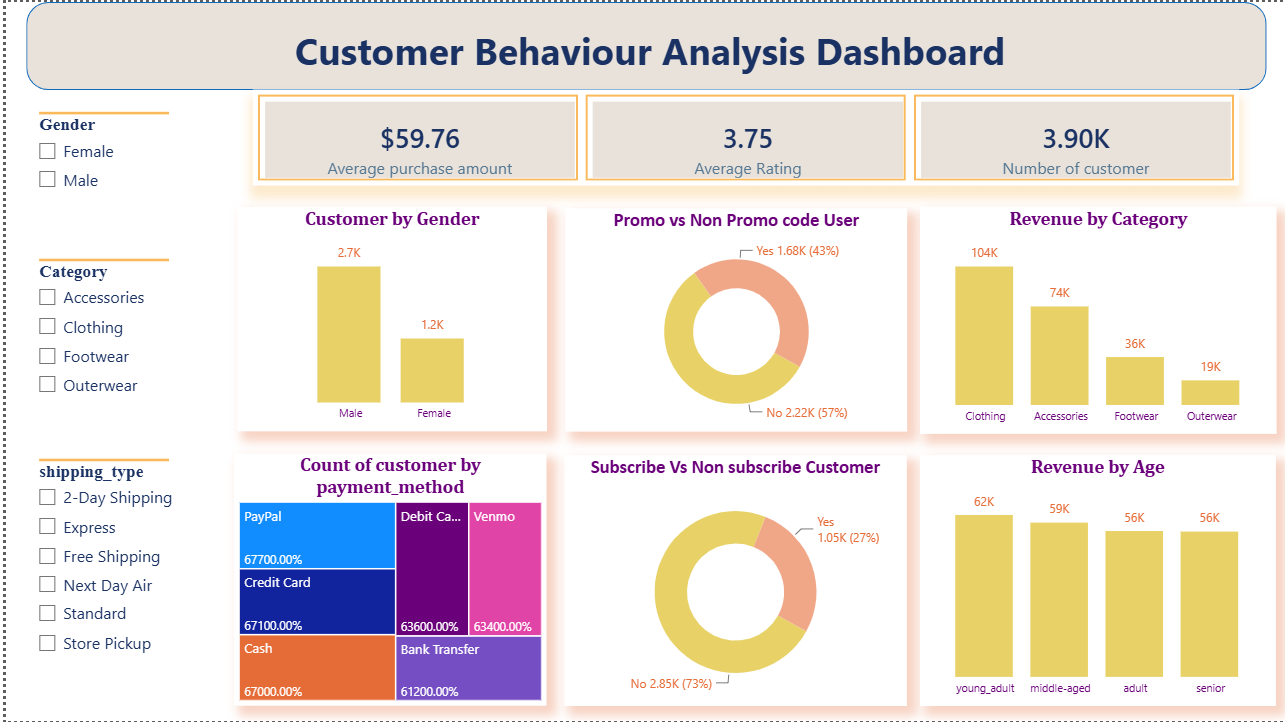

The page's visual inventory and layout, read from the dashboard file:
{"tool":"powerbi","page":{"name":"Page 1","canvas":[1280,720],"ordinal":0},"visuals":[{"type":"shape","box":[20.9,0,1240.3,88.1],"z":0},{"type":"cardVisual","fields":{"Data":["Customer_behavior.Average purchase amount","Customer_behavior.Average Rating","Customer_behavior.Number of customer"]},"box":[246.9,87.7,986.4,96.3],"z":1000},{"type":"textbox","box":[37.3,16.4,1213.4,61.2],"z":2000},{"type":"donutChart","title":"Subscribe Vs Non subscribe Customer","fields":{"Category":["Customer_behavior.subscription_status"],"Y":["Count(Customer_behavior.customer_id)"]},"box":[558,453.1,343.2,250.6],"z":3000},{"type":"clusteredColumnChart","title":"Revenue by Age ","fields":{"Category":["Customer_behavior.age_group"],"Y":["Sum(Customer_behavior.purchase_amount)"]},"box":[913.6,453.1,355.6,250.6],"z":4000},{"type":"clusteredColumnChart","title":"Customer by Gender","fields":{"Category":["Customer_behavior.gender"],"Y":["Count(Customer_behavior.customer_id)"]},"box":[230.9,204.9,309.9,224.7],"z":5000},{"type":"treemap","title":"Count of customer by payment_method","fields":{"Values":["Count(Customer_behavior.customer_id)"],"Group":["Customer_behavior.payment_method"]},"box":[228.4,451.9,312.3,251.9],"z":6000},{"type":"donutChart","title":"Promo vs Non Promo code User","fields":{"Category":["Customer_behavior.promo_code_used"],"Y":["Count(Customer_behavior.customer_id)"]},"box":[559.3,206.2,342,223.5],"z":7000},{"type":"slicer","fields":{"Values":["Customer_behavior.gender"]},"box":[20,104,156,104],"z":8000},{"type":"clusteredColumnChart","title":"Revenue by Category ","fields":{"Category":["Customer_behavior.category"],"Y":["Sum(Customer_behavior.purchase_amount)"]},"box":[913.6,204.9,356.8,227.2],"z":9000},{"type":"slicer","fields":{"Values":["Customer_behavior.category"]},"box":[20,252,156,158],"z":10000},{"type":"slicer","fields":{"Values":["Customer_behavior.shipping_type"]},"box":[20,452,156,252],"z":11000}]}

Visuals, with their boxes in screenshot pixels (x1, y1, x2, y2), scaled from the page's 1280x720 canvas onto the 1285x722 screenshot:
shape: locate(21, 0, 1266, 88)
cardVisual - Customer_behavior.Average purchase amount x Customer_behavior.Average Rating: locate(248, 88, 1238, 185)
textbox: locate(37, 16, 1256, 78)
"Subscribe Vs Non subscribe Customer" donutChart: locate(560, 454, 905, 706)
"Revenue by Age " clusteredColumnChart: locate(917, 454, 1274, 706)
"Customer by Gender" clusteredColumnChart: locate(232, 205, 543, 431)
"Count of customer by payment_method" treemap: locate(229, 453, 543, 706)
"Promo vs Non Promo code User" donutChart: locate(561, 207, 905, 431)
slicer - Customer_behavior.gender: locate(20, 104, 177, 209)
"Revenue by Category " clusteredColumnChart: locate(917, 205, 1275, 433)
slicer - Customer_behavior.category: locate(20, 253, 177, 411)
slicer - Customer_behavior.shipping_type: locate(20, 453, 177, 706)
